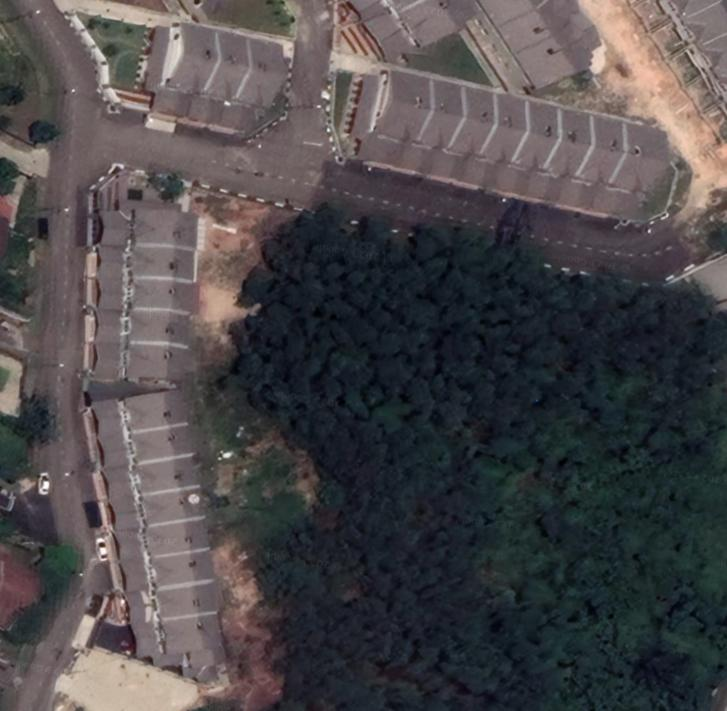building: (359, 1, 460, 64), (512, 19, 595, 94), (152, 609, 228, 686), (371, 65, 437, 150), (614, 117, 672, 202), (163, 19, 224, 96), (545, 104, 598, 187), (578, 111, 631, 194), (482, 90, 533, 170), (239, 34, 291, 112), (420, 76, 470, 157), (514, 97, 564, 178), (206, 26, 255, 105), (450, 85, 500, 162), (117, 386, 196, 429), (148, 575, 226, 617), (121, 338, 194, 382), (125, 238, 202, 278), (127, 450, 203, 490), (122, 420, 199, 459), (492, 8, 552, 58), (139, 514, 213, 554), (134, 482, 207, 522), (144, 545, 218, 584), (122, 305, 196, 343), (130, 204, 201, 243), (124, 272, 198, 308), (680, 0, 727, 48)
